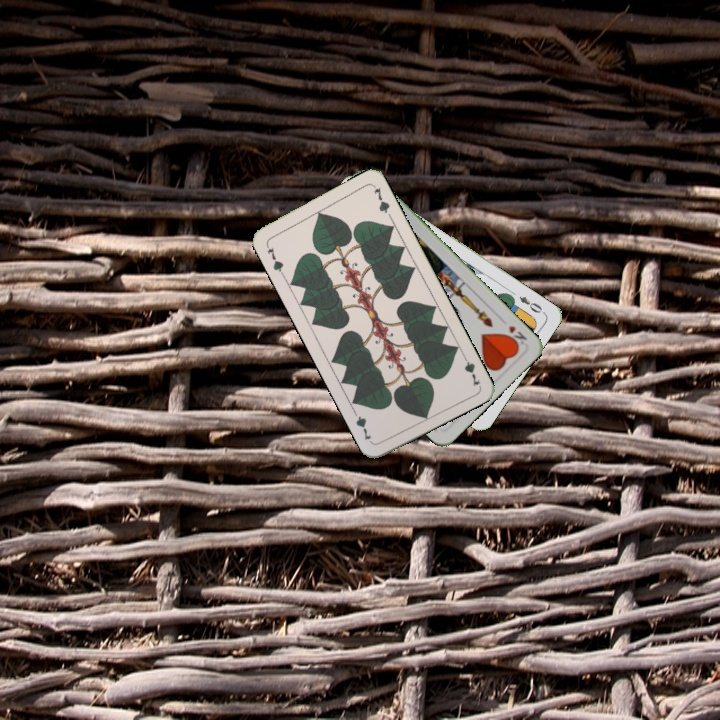EO: (515, 292, 545, 316)
G7: (458, 350, 483, 389), (262, 239, 287, 277)
HK: (502, 321, 530, 351)
